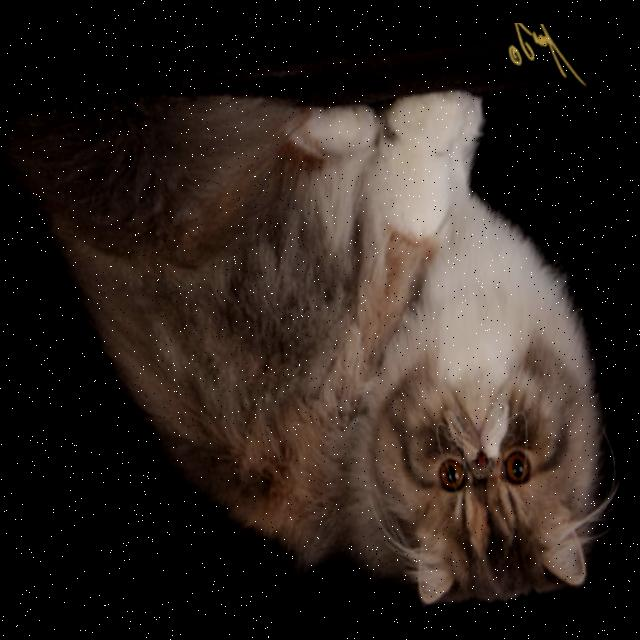Persian: (0, 12, 640, 640)
